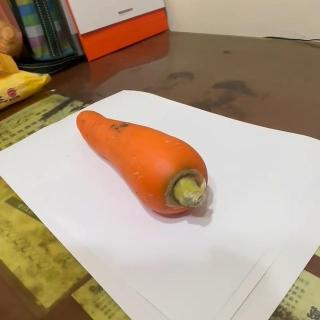carrot: (76, 109, 212, 217)
